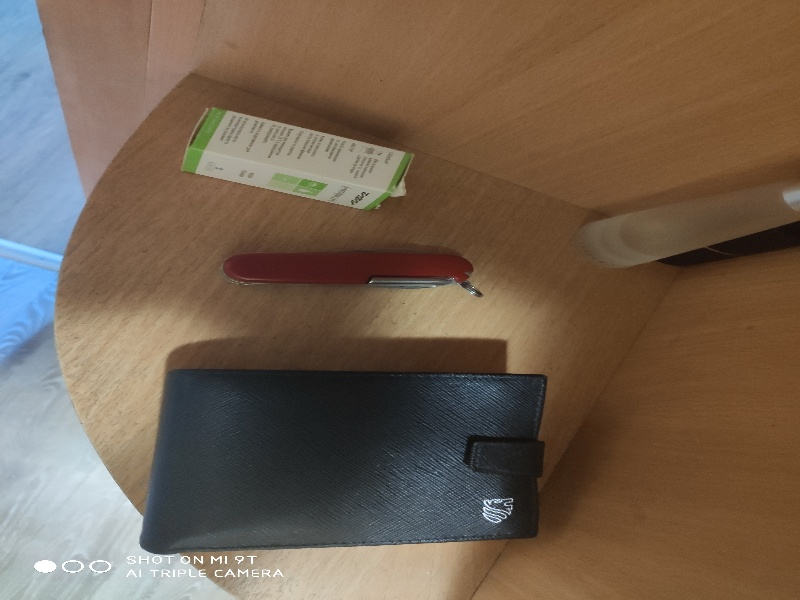ifrin: (175, 101, 415, 208)
knife: (218, 235, 481, 301)
wallet: (128, 358, 551, 551)
